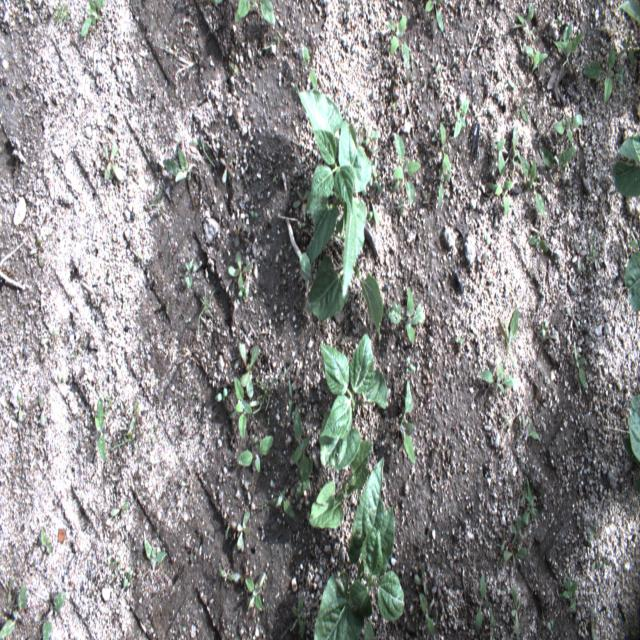crop: (291, 82, 372, 296), (314, 456, 404, 640), (318, 333, 388, 472), (308, 256, 383, 336), (309, 440, 373, 531), (612, 134, 640, 198), (624, 250, 640, 312), (628, 394, 640, 462), (617, 0, 640, 25)
weed: (385, 286, 426, 348), (582, 44, 624, 102), (389, 133, 421, 209), (251, 363, 293, 415), (391, 380, 416, 464), (520, 154, 546, 221), (551, 21, 583, 70), (0, 581, 27, 639), (236, 434, 274, 474), (293, 406, 311, 490), (497, 306, 519, 369), (162, 145, 198, 183), (479, 361, 518, 396), (233, 374, 253, 440), (387, 13, 410, 70), (198, 282, 222, 336), (238, 342, 260, 397), (42, 590, 66, 640), (518, 475, 541, 525), (111, 413, 139, 453), (538, 143, 577, 171), (486, 178, 513, 218), (234, 0, 276, 25), (501, 528, 527, 567), (228, 250, 254, 288), (294, 449, 313, 501), (144, 530, 167, 572), (552, 114, 583, 144), (80, 0, 105, 37), (188, 135, 216, 167), (301, 41, 318, 93), (474, 572, 489, 630), (102, 141, 124, 180), (418, 592, 436, 638), (512, 3, 534, 40), (436, 121, 451, 175), (94, 398, 106, 461), (490, 135, 508, 176), (583, 234, 599, 280), (526, 44, 548, 77), (522, 413, 541, 450), (615, 32, 634, 68), (453, 98, 470, 138), (147, 185, 166, 220), (276, 488, 296, 521), (424, 0, 443, 34), (236, 510, 251, 552), (291, 594, 305, 638), (245, 576, 263, 610), (509, 514, 528, 545), (182, 257, 200, 289), (562, 576, 578, 612), (511, 584, 522, 636), (261, 20, 280, 50), (29, 234, 45, 269), (527, 226, 548, 252), (292, 188, 310, 218), (513, 95, 533, 122), (574, 344, 586, 389), (437, 168, 450, 209), (97, 379, 111, 417), (570, 241, 587, 272), (257, 497, 279, 519), (220, 148, 233, 184), (414, 562, 428, 594), (56, 2, 71, 31), (368, 188, 379, 226), (233, 216, 246, 247), (371, 165, 384, 194), (110, 501, 130, 519), (510, 126, 519, 166), (538, 328, 558, 346), (40, 529, 54, 554), (393, 193, 408, 216), (566, 305, 580, 328), (588, 607, 598, 639), (36, 393, 45, 428), (219, 562, 235, 581), (14, 390, 24, 420), (128, 399, 138, 429), (123, 564, 134, 590), (41, 329, 57, 346), (106, 560, 121, 578), (225, 522, 239, 541), (366, 126, 379, 146), (432, 574, 443, 597), (590, 550, 601, 573), (232, 572, 251, 584), (215, 386, 229, 402), (361, 137, 375, 153), (370, 158, 378, 186), (588, 518, 596, 546), (237, 282, 249, 300), (184, 536, 193, 559), (432, 128, 443, 146), (628, 228, 639, 246), (406, 355, 416, 374), (489, 610, 495, 640), (7, 577, 13, 606), (288, 377, 292, 418), (340, 0, 349, 18), (546, 618, 554, 638), (362, 185, 374, 198), (541, 319, 549, 336), (632, 476, 640, 493), (487, 427, 494, 445), (421, 190, 431, 202), (600, 553, 608, 568), (554, 13, 562, 27), (366, 210, 372, 228), (56, 373, 66, 383), (562, 14, 570, 26), (250, 210, 258, 219), (210, 0, 222, 5), (391, 92, 394, 112), (254, 436, 258, 450), (455, 337, 463, 344)
